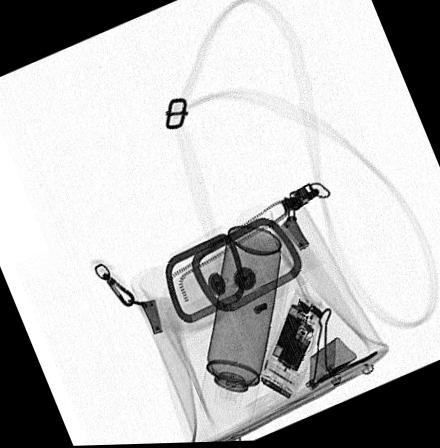Sprayer: (198, 226, 280, 426)
